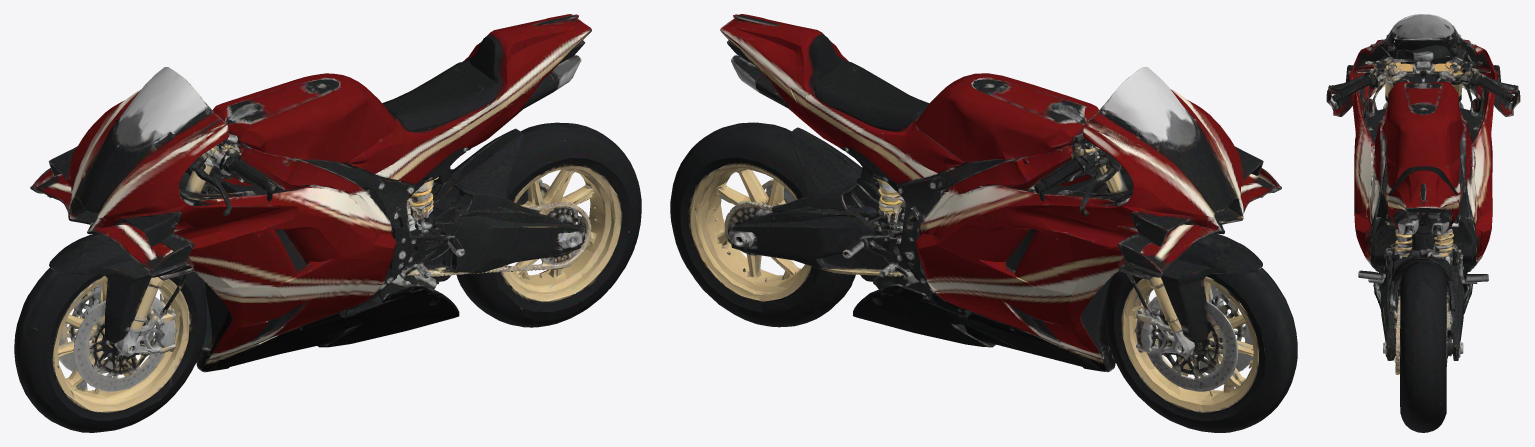
File: bike-ai.glb
3 renders of one model, left to right at view 1: azimuth 30°, elevation 25°; view 2: azimuth 150°, elevation 25°; view 3: azimuth 270°, elevation 25°, orthographic. The views are drawn at different scales.
Parts seen in each view (by area): view 1: Mesh_0; view 2: Mesh_0; view 3: Mesh_0.
Boxes of the visible parts, bbox=[...] form: Mesh_0: bbox=[14, 14, 641, 432]; Mesh_0: bbox=[670, 14, 1297, 432]; Mesh_0: bbox=[1326, 14, 1520, 432].
Size of the model in its own units: 1.9 by 0.9974 by 0.6524.
1 material, 1 textured.
